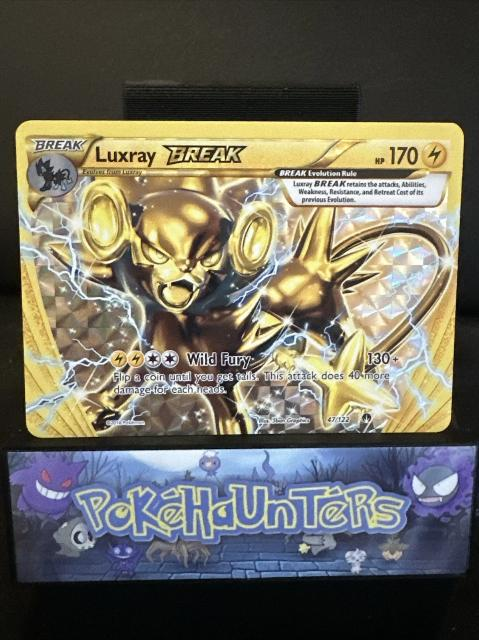Card: (11, 116, 468, 445)
Name: (90, 141, 250, 168)
